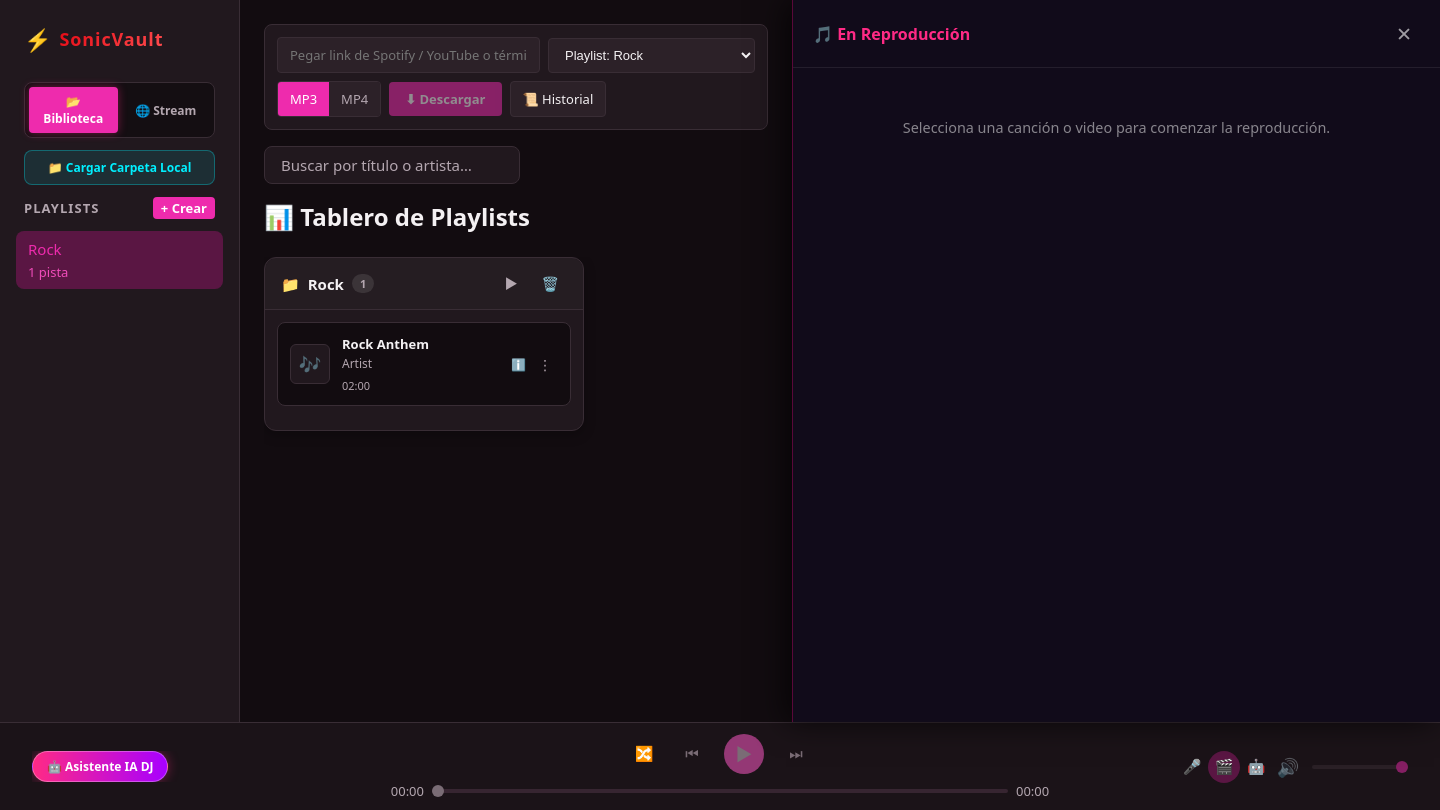
Scenario: App error states and edge cases (task 12.3) › shows "No se encontraron pistas" only when a query yields no matches (Req 7.5)
Expected: the text "Rock Anthem" is shown, [342,335,429,353]
Expected: the text "No se encontraron pistas" is not shown
Typing a non-matching query surfaces the empty-results message.
Type "zzz-nomatch" into the search field at (392, 165), box [264,146,520,184]
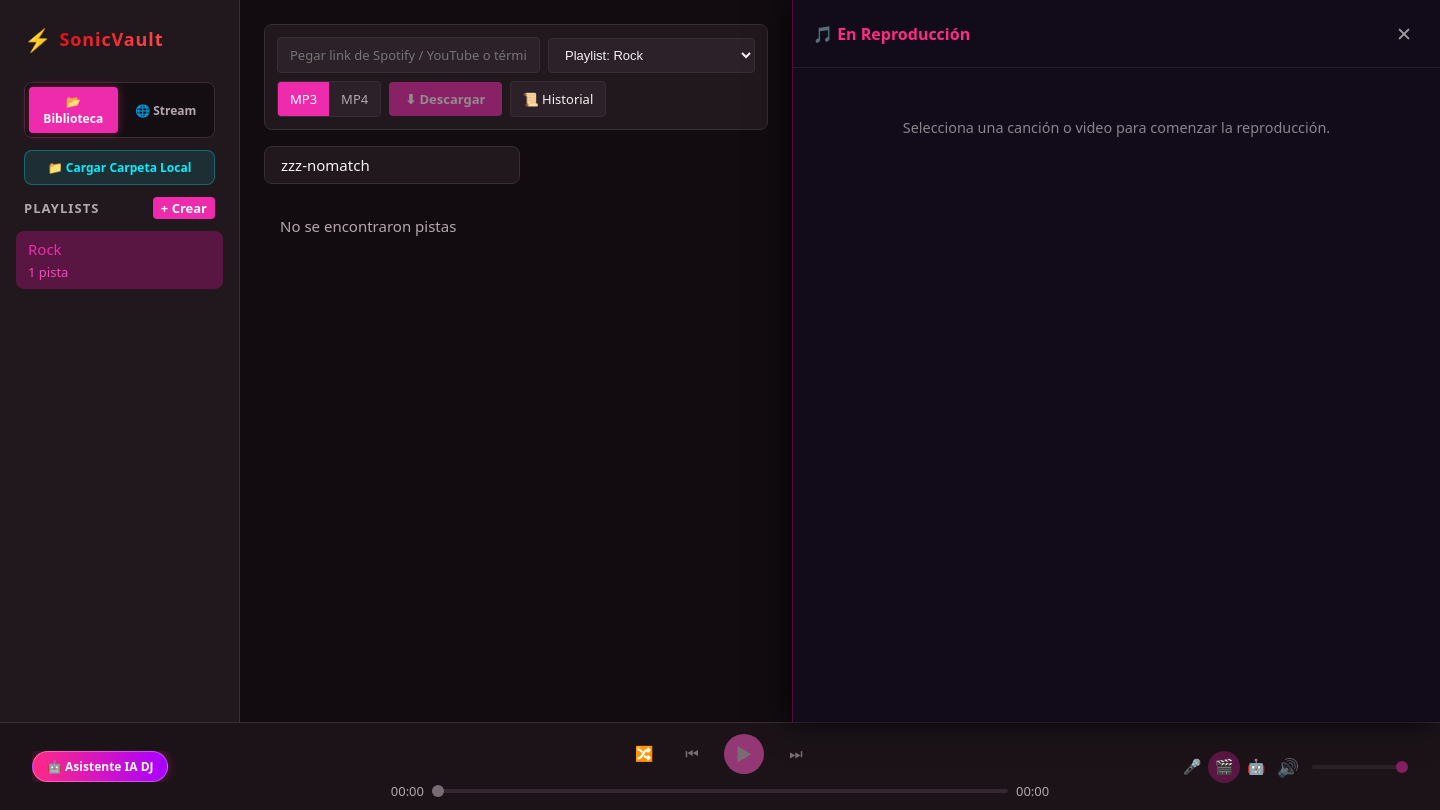
Expected: the text "No se encontraron pistas" is shown, [280,216,456,236]
Clearing the query hides the message again.
Clear the search field at (392, 165), box [264,146,520,184]
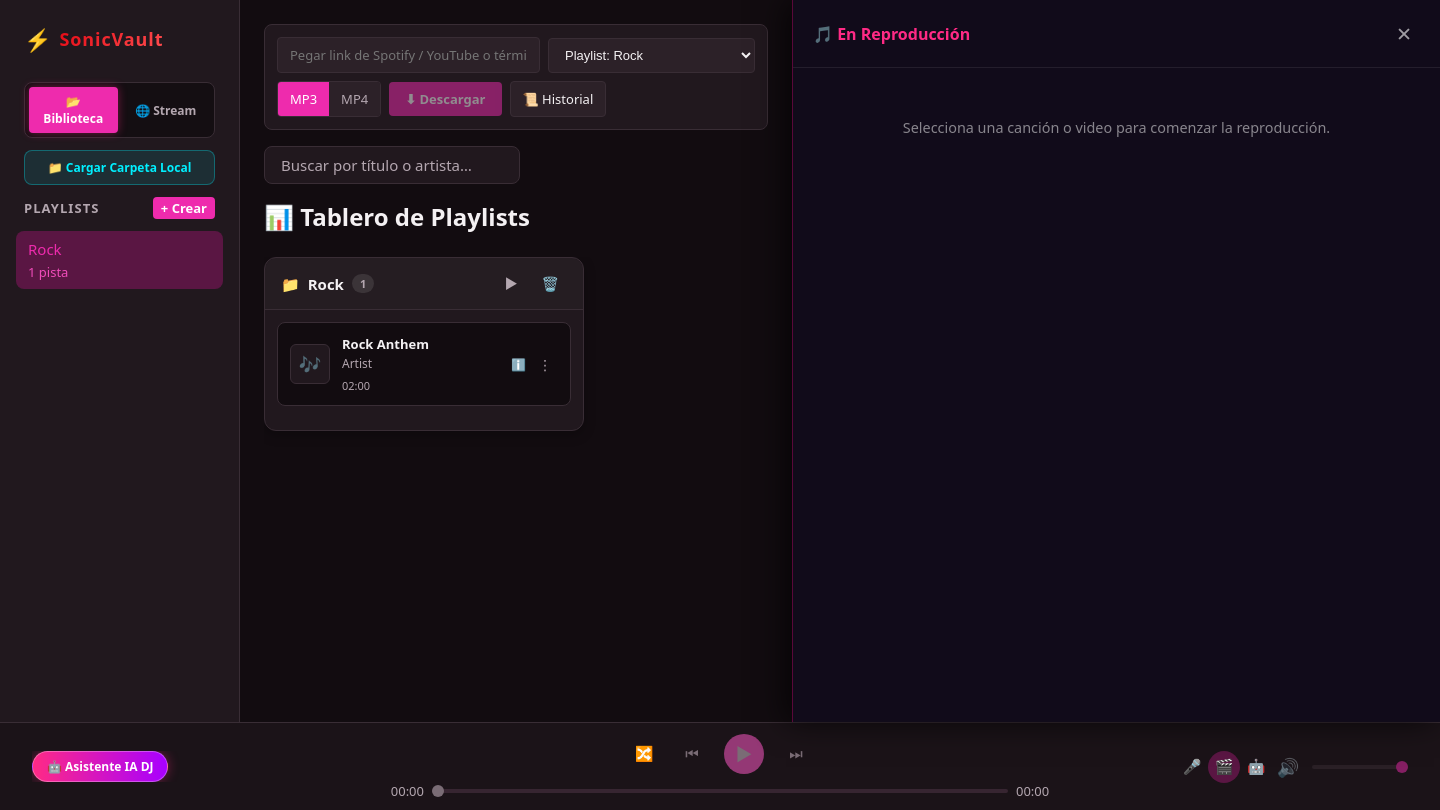
Expected: the text "No se encontraron pistas" is gone
